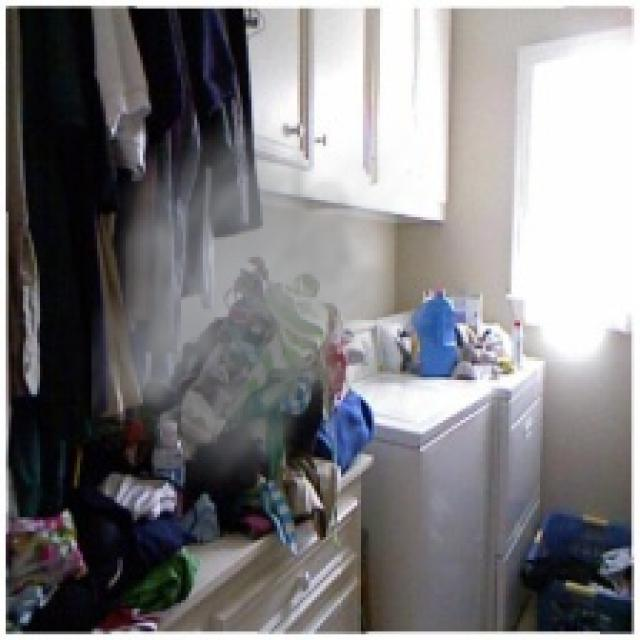smoke: (92, 97, 434, 503)
